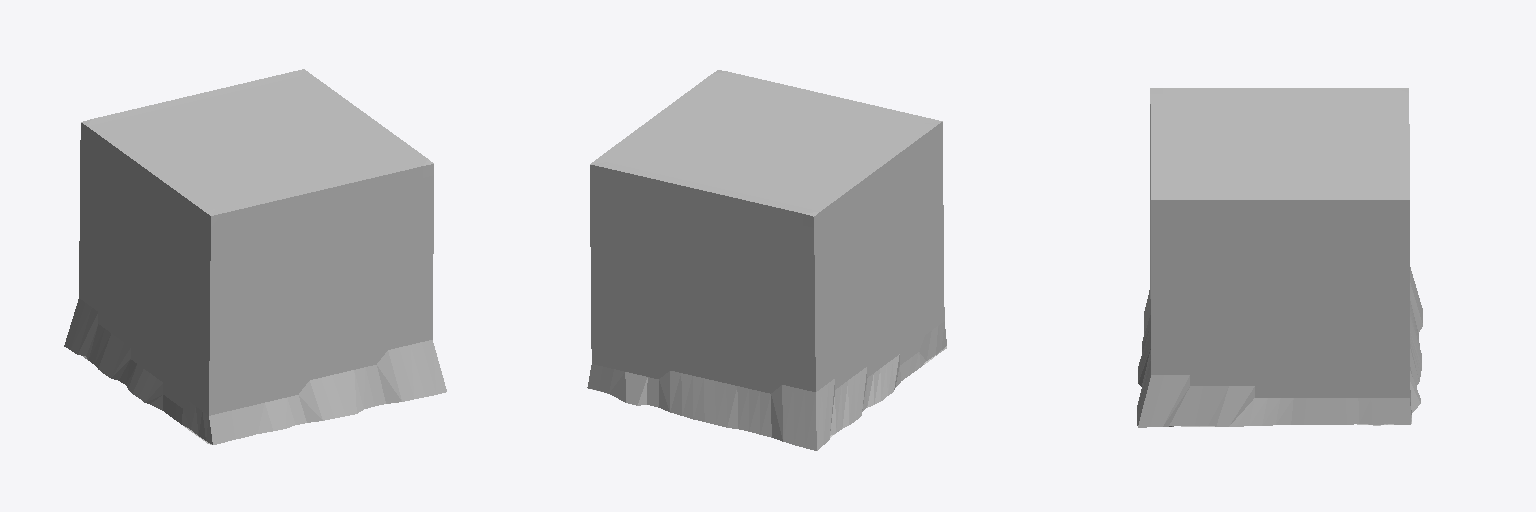
The model's file is mod0054.obj.
3 renders of one model, left to right at view 1: azimuth 30°, elevation 25°; view 2: azimuth 150°, elevation 25°; view 3: azimuth 270°, elevation 25°, orthographic.
Parts seen in each view (by area): view 1: Box001; view 2: Box001; view 3: Box001.
Boxes of the visible parts, <box> form: Box001: <box>64,69,446,444</box>; Box001: <box>587,70,946,450</box>; Box001: <box>1137,88,1422,427</box>.
Size of the model in its own units: 0.5799 by 0.5249 by 0.5979.